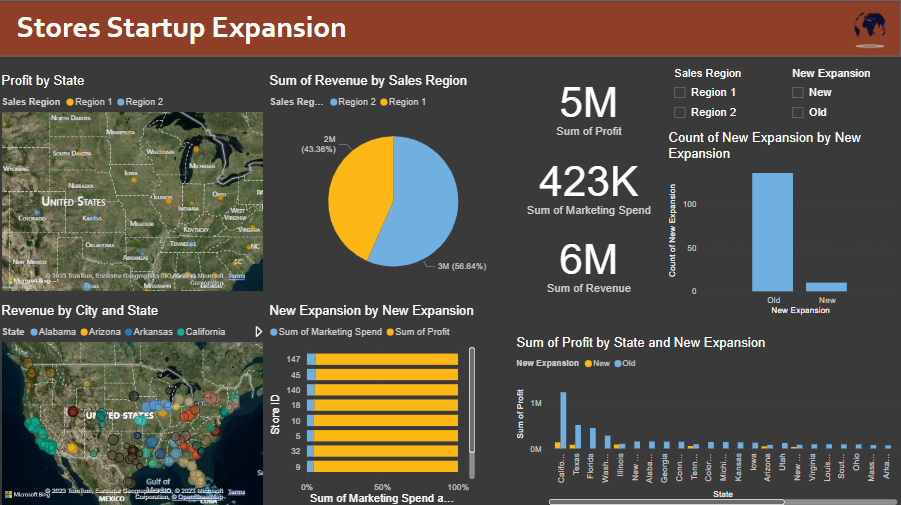

This screenshot's page, from the dashboard's own definition file:
{"tool":"powerbi","page":{"name":"Overview","canvas":[1280,720],"ordinal":0},"visuals":[{"type":"map","title":"Profit by State","fields":{"Category":["startups-expansion-new.State"],"Size":["Sum(startups-expansion-new.Profit)"],"Series":["startups-expansion-new.Sales Region"]},"box":[0,103.3,379.6,314.2],"z":0},{"type":"shape","box":[0,0,1280,80],"z":1000},{"type":"textbox","box":[21.7,6.7,551.7,66.7],"z":2000},{"type":"map","title":"Revenue by City and State","fields":{"Category":["startups-expansion-new.City"],"Size":["Sum(startups-expansion-new.Revenue)"],"Series":["startups-expansion-new.State"]},"box":[0,429.1,379.6,290.9],"z":3000},{"type":"columnChart","fields":{"Category":["startups-expansion-new.New Expansion"],"Y":["CountNonNull(startups-expansion-new.New Expansion)"]},"box":[945.5,184.7,334.5,267.6],"z":4000},{"type":"pieChart","fields":{"Y":["Sum(startups-expansion-new.Revenue)"],"Category":["startups-expansion-new.Sales Region"]},"box":[379.6,103.3,360.7,314.2],"z":4001},{"type":"card","fields":{"Values":["Sum(startups-expansion-new.Profit)"]},"box":[730.2,90.2,215.3,116.4],"z":4002},{"type":"card","fields":{"Values":["Sum(startups-expansion-new.Marketing Spend)"]},"box":[730.2,202.2,215.3,116.4],"z":4003},{"type":"card","fields":{"Values":["Sum(startups-expansion-new.Revenue)"]},"box":[730.2,312.7,215.3,116.4],"z":4004},{"type":"clusteredColumnChart","fields":{"Category":["startups-expansion-new.State"],"Y":["Sum(startups-expansion-new.Profit)"],"Series":["startups-expansion-new.New Expansion"]},"box":[730.2,474.2,549.8,245.8],"z":4005},{"type":"slicer","fields":{"Values":["startups-expansion-new.Sales Region"]},"box":[945.5,90.2,167.3,94.5],"z":4006},{"type":"slicer","fields":{"Values":["startups-expansion-new.New Expansion"]},"box":[1112.7,90.2,167.3,94.5],"z":4007},{"type":"hundredPercentStackedBarChart","title":"New Expansion by New Expansion","fields":{"Category":["startups-expansion-new.Store ID"],"Y":["Sum(startups-expansion-new.Marketing Spend)","Sum(startups-expansion-new.Profit)"]},"box":[379.6,429.1,301.1,290.9],"z":4008},{"type":"image","box":[1190,0,90,85],"z":4009}]}

Visuals, with their boxes in screenshot pixels (x1, y1, x2, y2), scaled from the page's 1280x720 canvas onto the 901x505 screenshot:
"Profit by State" map: 0:72:267:293
shape: 0:0:900:56
textbox: 15:5:404:51
"Revenue by City and State" map: 0:301:267:504
columnChart - startups-expansion-new.New Expansion x CountNonNull(startups-expansion-new.New Expansion): 666:130:900:317
pieChart - Sum(startups-expansion-new.Revenue) x startups-expansion-new.Sales Region: 267:72:521:293
card - Sum(startups-expansion-new.Profit): 514:63:666:145
card - Sum(startups-expansion-new.Marketing Spend): 514:142:666:223
card - Sum(startups-expansion-new.Revenue): 514:219:666:301
clusteredColumnChart - startups-expansion-new.State x Sum(startups-expansion-new.Profit): 514:333:900:504
slicer - startups-expansion-new.Sales Region: 666:63:783:130
slicer - startups-expansion-new.New Expansion: 783:63:900:130
"New Expansion by New Expansion" hundredPercentStackedBarChart: 267:301:479:504
image: 838:0:900:60
